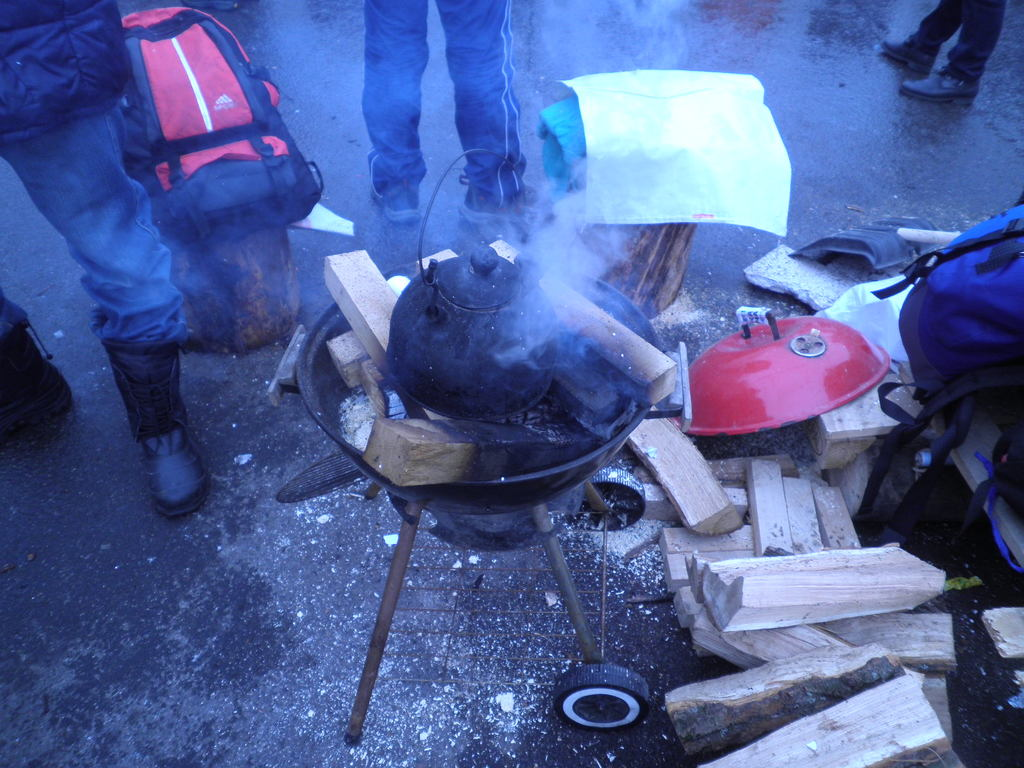Person: (0, 0, 211, 517), (363, 0, 537, 224), (880, 0, 1006, 104)
